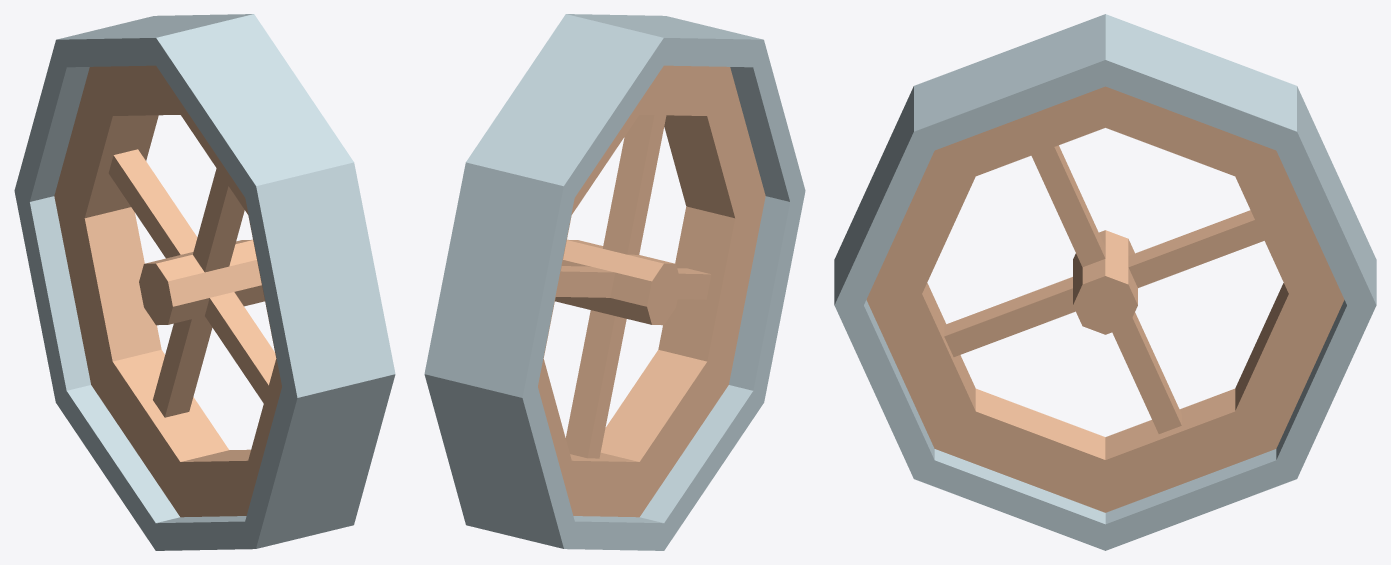
The model's file is roue.dae.
The picture shows the model from 3 angles, left to right: view 1: azimuth 30°, elevation 25°; view 2: azimuth 150°, elevation 25°; view 3: azimuth 270°, elevation 25°; orthographic projection. The views are drawn at different scales.
Visible parts, largest first — view 1: wheel; view 2: wheel; view 3: wheel.
Boxes of the visible parts, <box> form: wheel: <box>14,14,395,550</box>; wheel: <box>424,14,805,550</box>; wheel: <box>834,14,1376,550</box>.
Bounding box in the file's own units: 0.1016 × 0.5063 × 0.5064.
